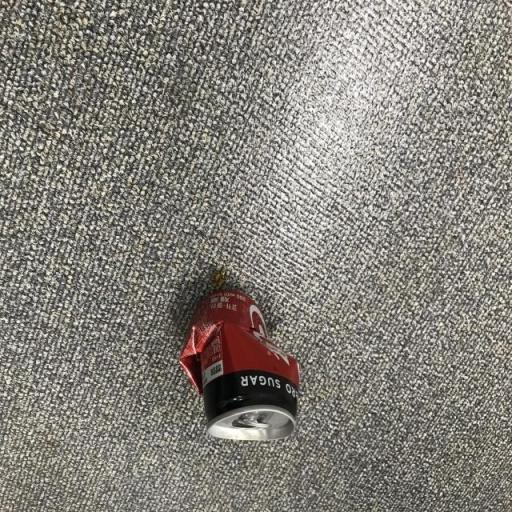metal: (159, 272, 312, 464)
